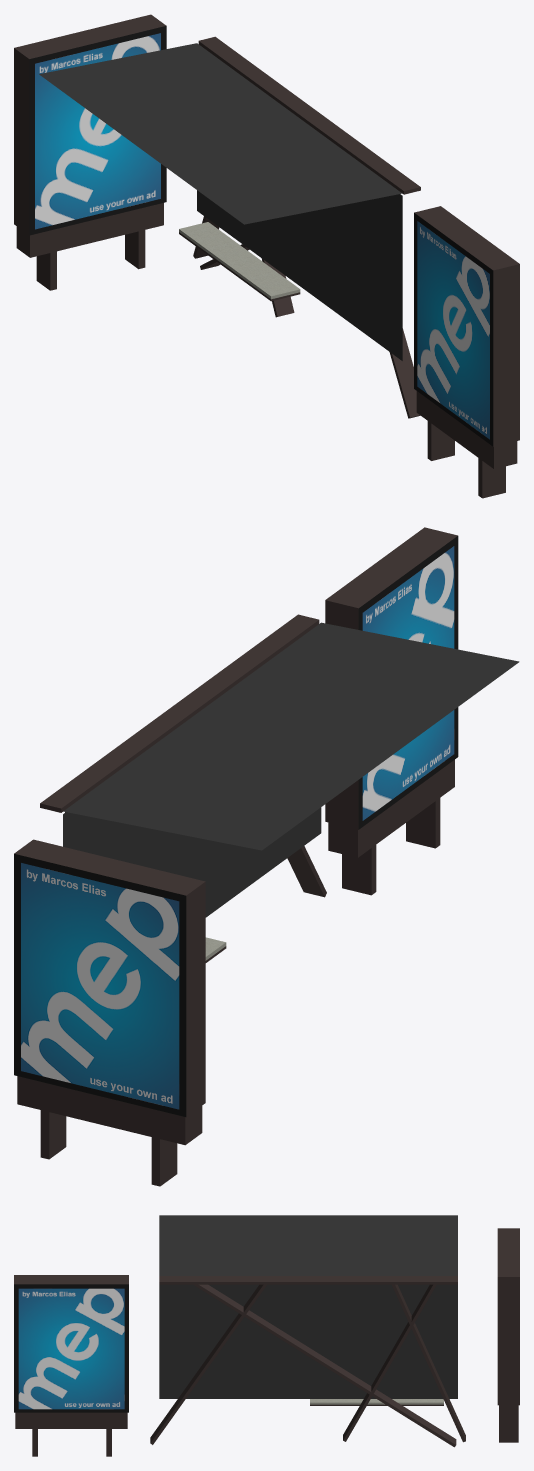
The model's file is ponto otima 1.fbx.
The picture shows the model from 3 angles, top to bottom: view 1: azimuth 30°, elevation 25°; view 2: azimuth 150°, elevation 25°; view 3: azimuth 270°, elevation 25°; orthographic projection. The views are drawn at different scales.
Parts seen in each view (by area): view 1: zzz cobertura, Cube, Cube.001, aaa vigas, aaa banco; view 2: zzz cobertura, Cube, Cube.001, aaa vigas; view 3: zzz cobertura, Cube.001, aaa vigas, Cube, aaa banco.
Part boxes in pixels (x1,y1,x2,y2): zzz cobertura: (39,43,402,360); Cube: (14,14,166,290); Cube.001: (414,206,519,498); aaa vigas: (193,36,420,418); aaa banco: (179,222,300,301); zzz cobertura: (63,622,519,917); Cube: (14,839,205,1186); Cube.001: (325,527,458,895); aaa vigas: (40,614,326,897); zzz cobertura: (159,1215,457,1398); Cube.001: (14,1275,128,1456); aaa vigas: (150,1276,465,1447); Cube: (497,1228,519,1442); aaa banco: (310,1399,443,1405).
Size of the model in its own units: 2.17 by 2.9 by 7.42.
